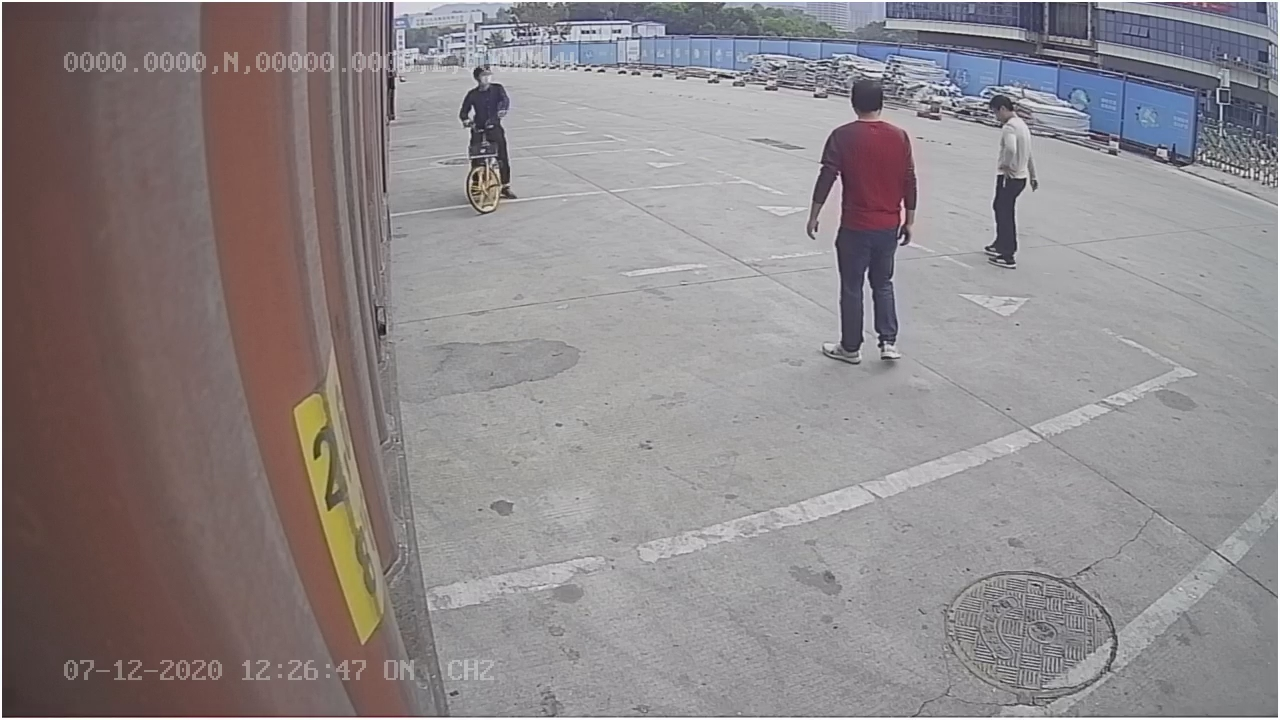person: (803, 69, 912, 369)
